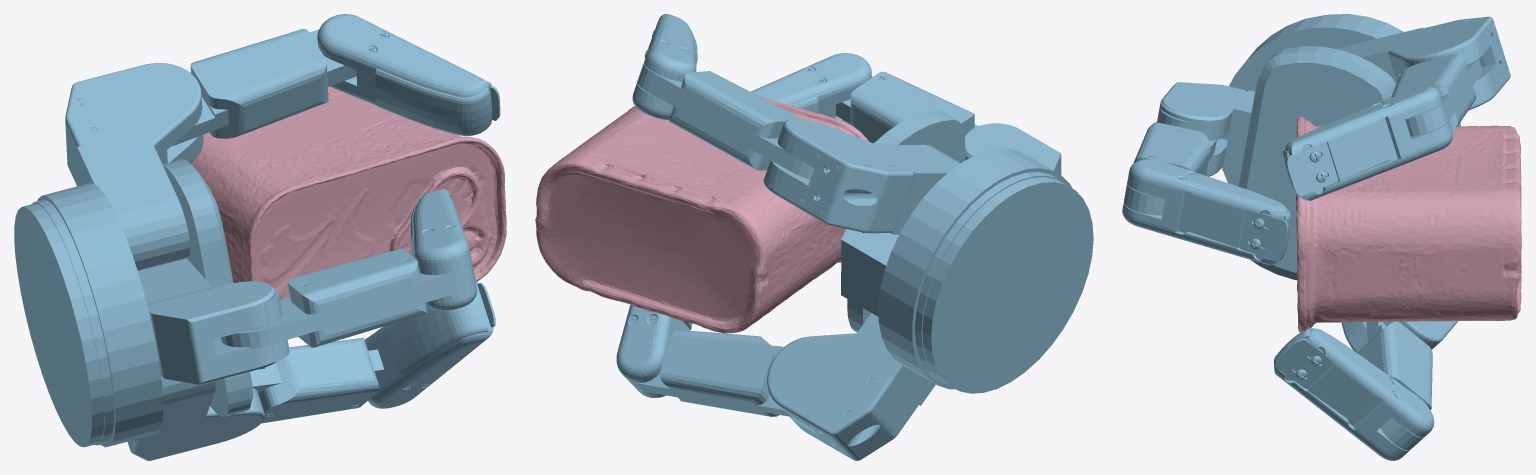
The picture shows the model from 3 angles, left to right: view 1: azimuth 30°, elevation 25°; view 2: azimuth 150°, elevation 25°; view 3: azimuth 270°, elevation 25°; orthographic projection. The views are drawn at different scales.
Parts seen in each view (by area): view 1: world; view 2: world; view 3: world.
Part boxes in pixels (<box>): world: <box>14,14,506,460</box>; world: <box>535,14,1093,460</box>; world: <box>1122,14,1521,460</box>.
Size of the model in its own units: 0.18 by 0.1473 by 0.1478.
